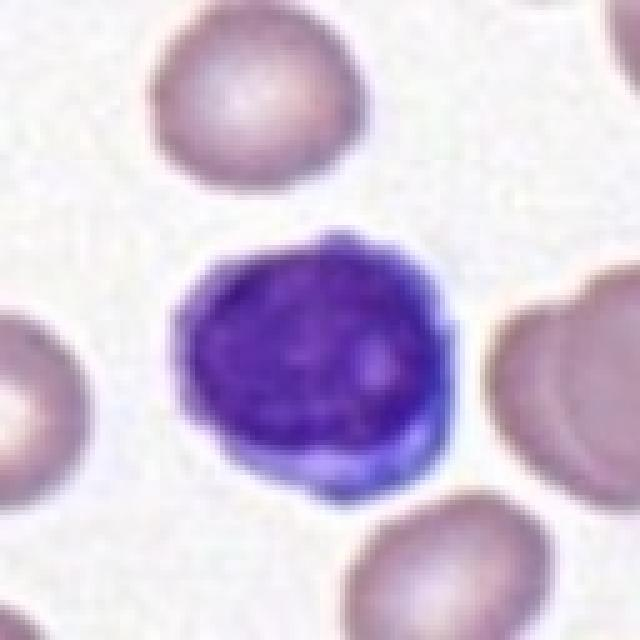lympho: (164, 222, 463, 508)
